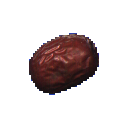gd: (15, 22, 113, 107)
